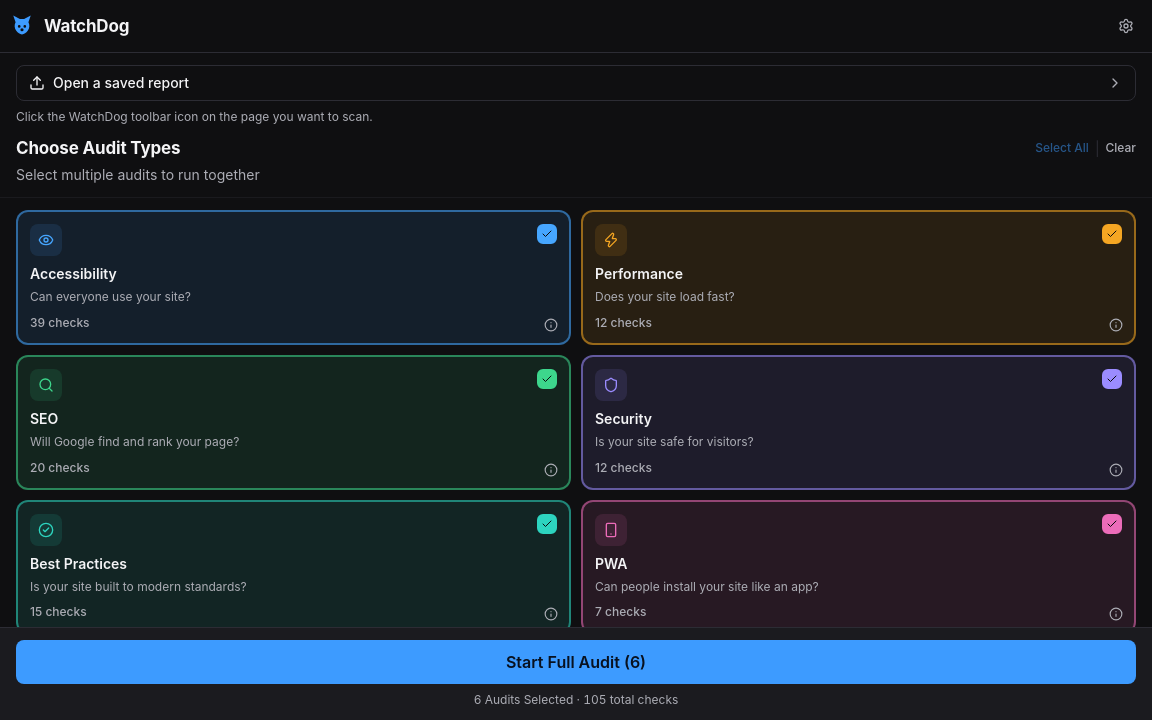
App view branching › opens and closes the settings view from the header toggle
Click the button named "Settings": (1126, 26) [1108,8,1144,44]
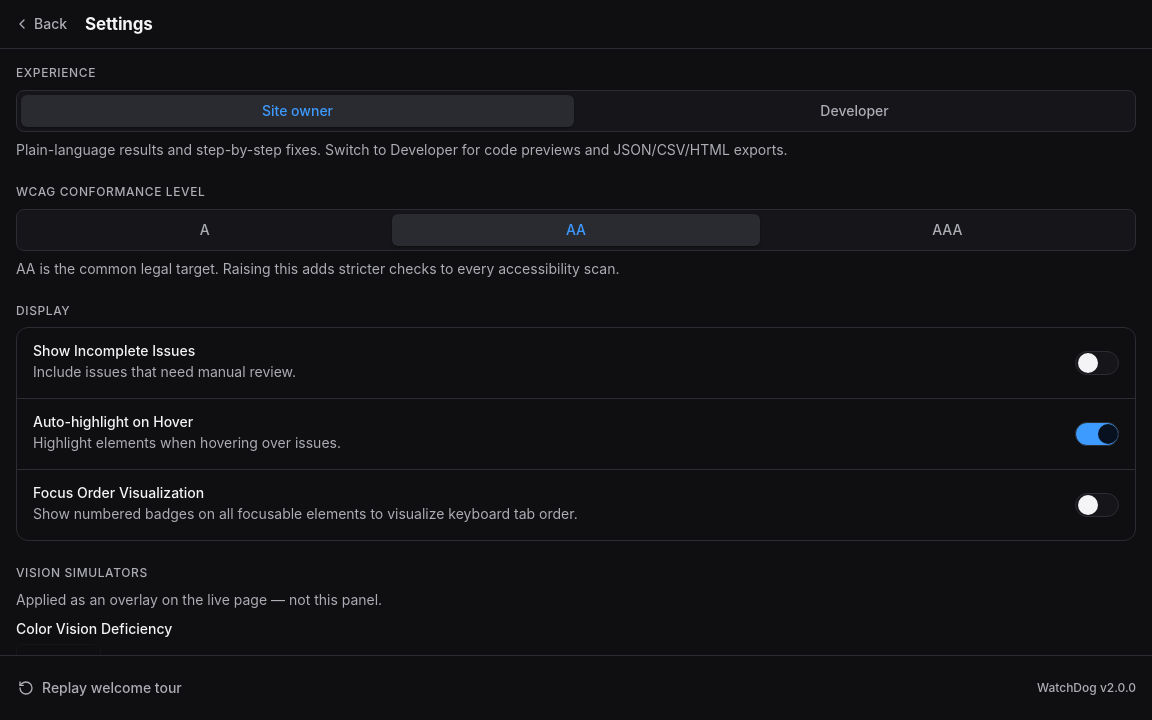
Now the heading "Settings" is shown, box [85,13,153,35]
Now the button "Replay welcome tour" is shown, box [8,672,192,704]
Click the button "Back": (41, 24) [4,8,77,40]
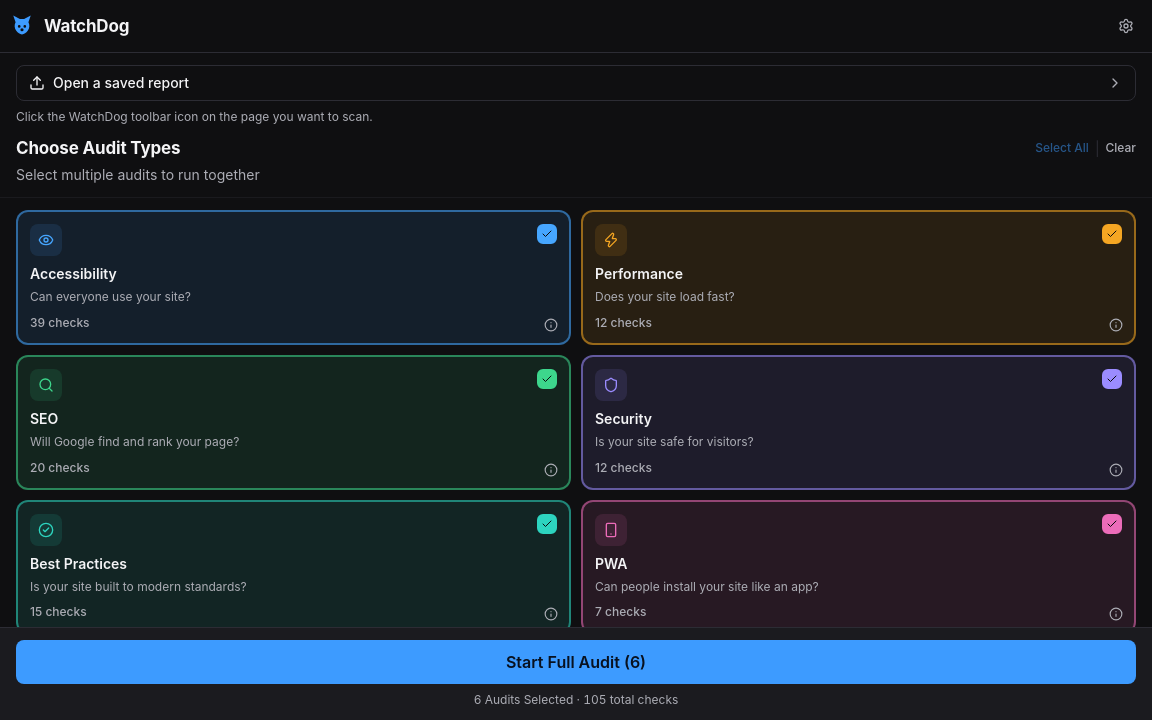
Now the heading "Choose Audit Types" is shown, box [16,137,180,159]
